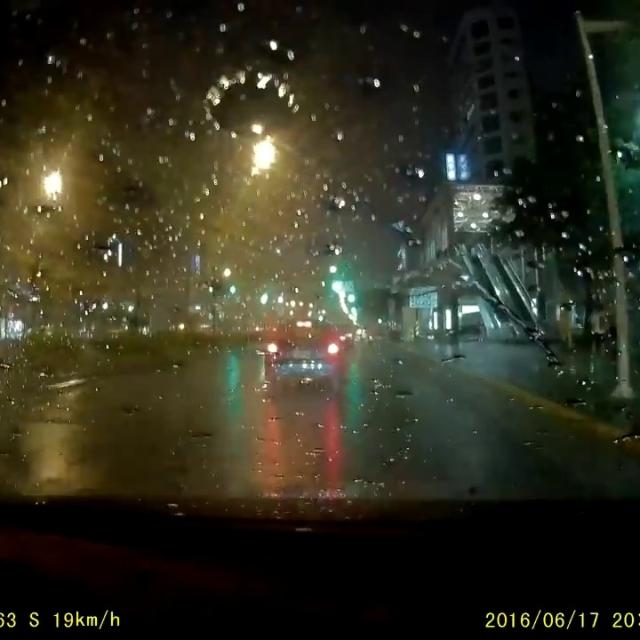Car: (258, 314, 352, 394)
